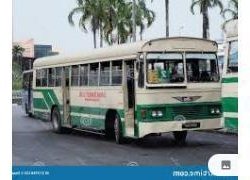bus: (31, 37, 224, 144)
